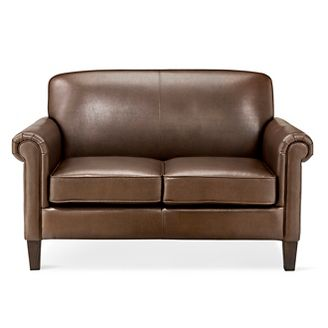chairs: (2, 67, 328, 272)
